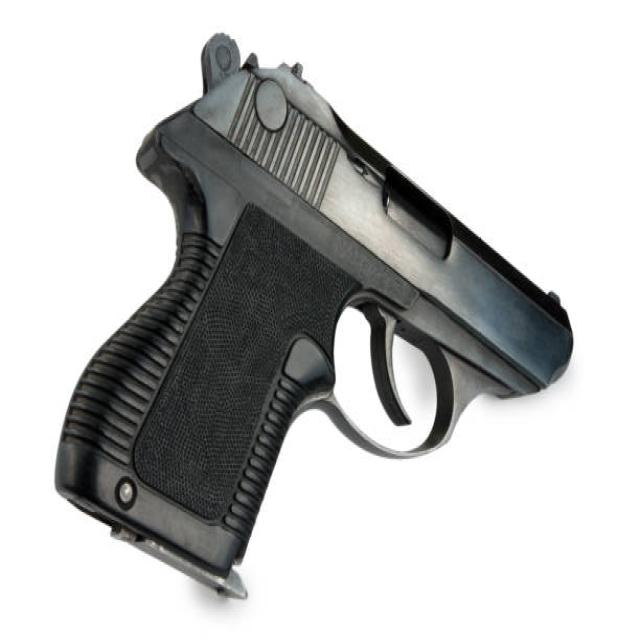pistol: (51, 26, 582, 616)
